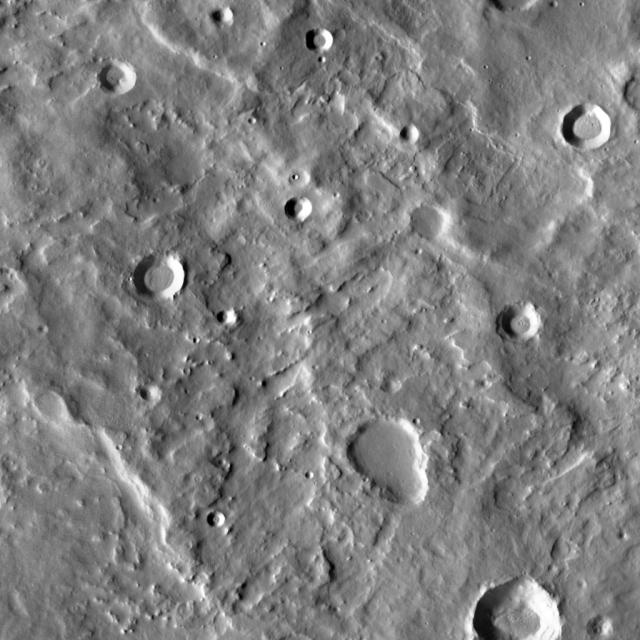crater: (473, 578, 563, 640), (347, 412, 422, 482), (134, 254, 186, 302), (562, 101, 612, 148), (380, 460, 428, 504), (495, 300, 540, 342), (410, 202, 450, 239), (96, 56, 136, 92), (284, 193, 314, 219), (305, 25, 334, 51), (588, 612, 614, 636), (291, 168, 311, 188), (214, 5, 234, 24), (400, 122, 420, 140), (140, 381, 158, 398), (207, 508, 225, 525), (216, 308, 234, 324), (237, 198, 253, 212), (618, 529, 628, 539), (38, 323, 48, 331), (249, 115, 257, 124), (318, 53, 326, 61), (306, 468, 314, 476), (550, 0, 558, 6), (408, 241, 415, 247), (177, 360, 184, 366), (406, 410, 413, 416)
